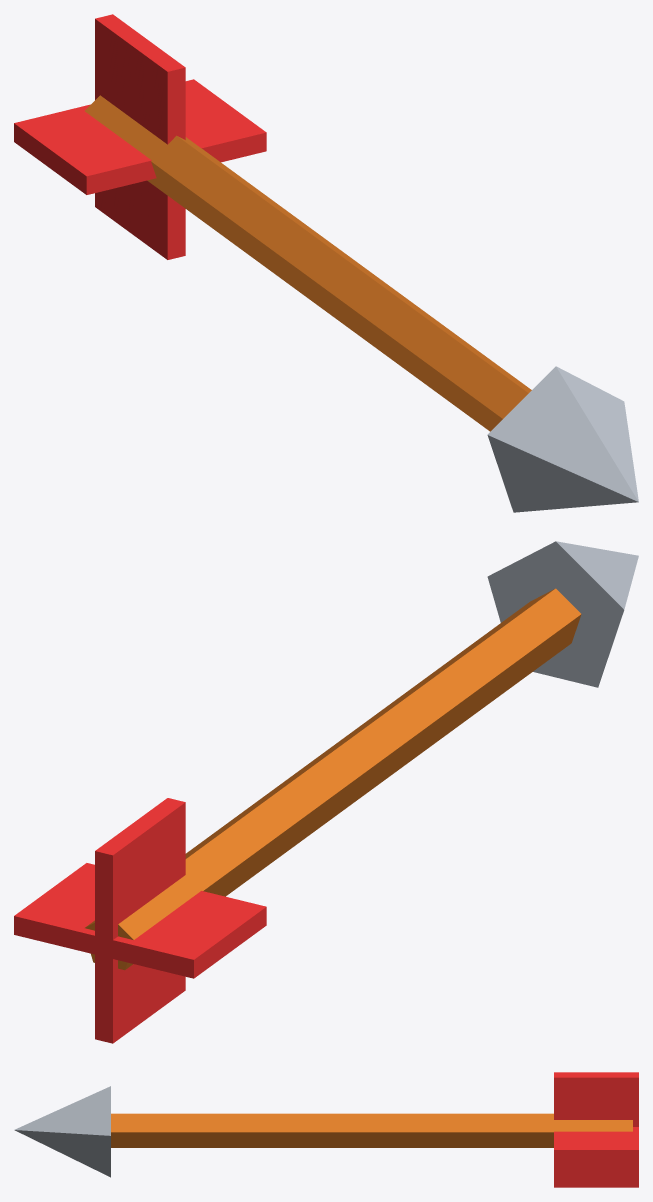
File: arrow.obj
3 renders of one model, top to bottom at view 1: azimuth 30°, elevation 25°; view 2: azimuth 150°, elevation 25°; view 3: azimuth 270°, elevation 25°, orthographic. The views are drawn at different scales.
Visible parts, largest first — view 1: arrow; view 2: arrow; view 3: arrow.
Part boxes in pixels (bbox=[...]): arrow: bbox=[14, 14, 638, 512]; arrow: bbox=[14, 541, 638, 1043]; arrow: bbox=[14, 1072, 638, 1187].
Size of the model in its own units: 0.1 by 0.1 by 0.515.
